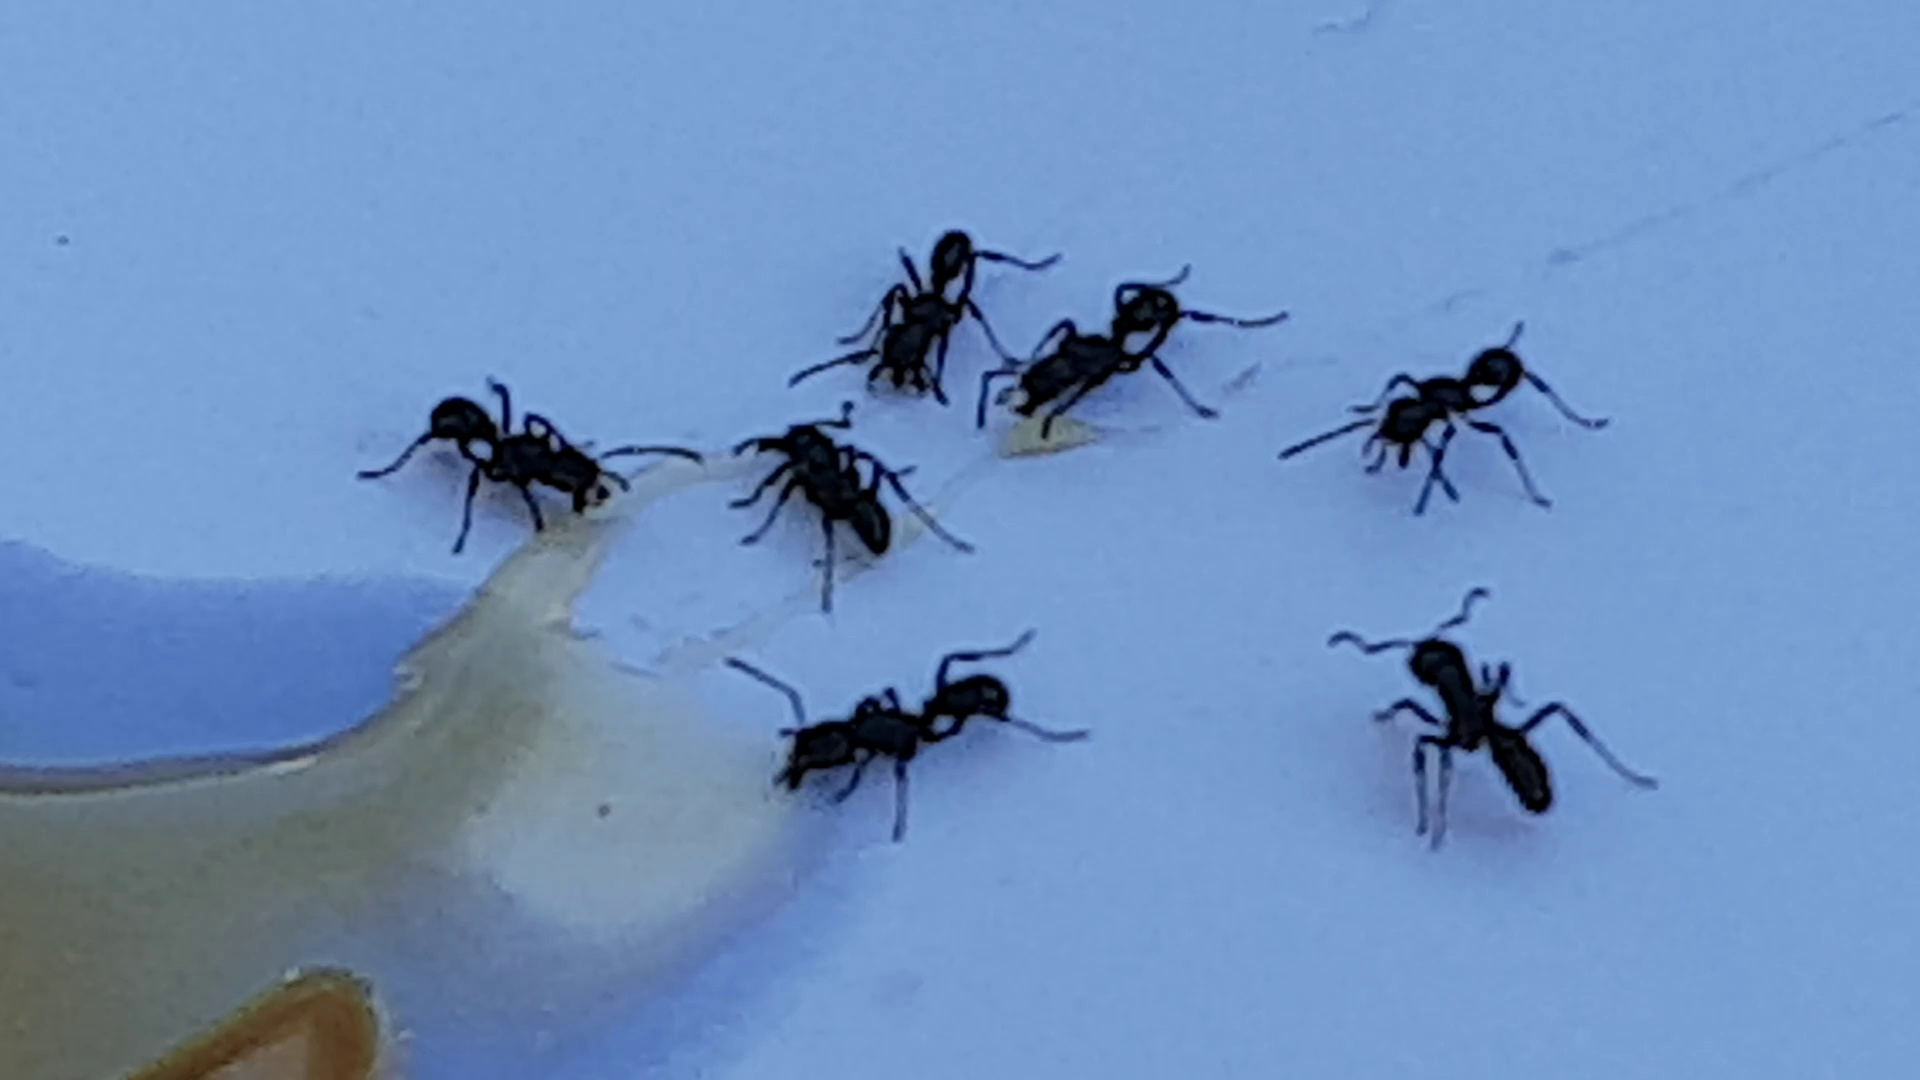sample_ants: (1317, 578, 1671, 858), (717, 618, 1098, 855), (959, 239, 1298, 479), (345, 360, 709, 571), (1273, 306, 1615, 529), (700, 396, 984, 620), (781, 210, 1075, 423)
